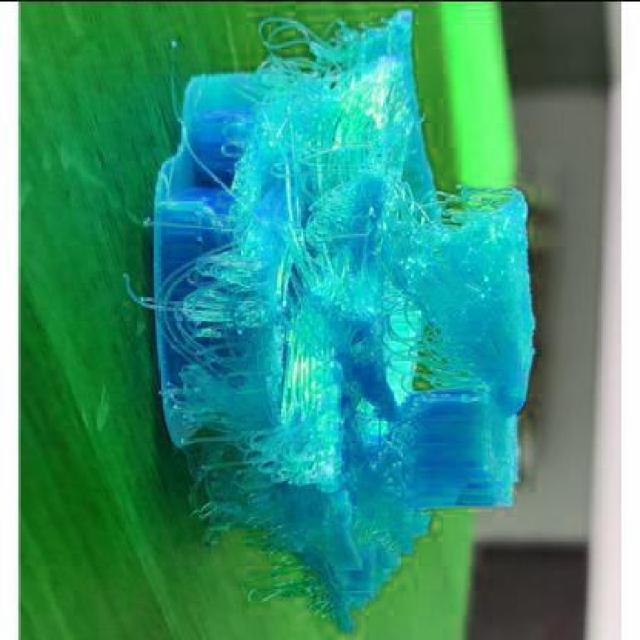spaghetti: (122, 182, 545, 503), (217, 4, 434, 173), (200, 498, 443, 636)
